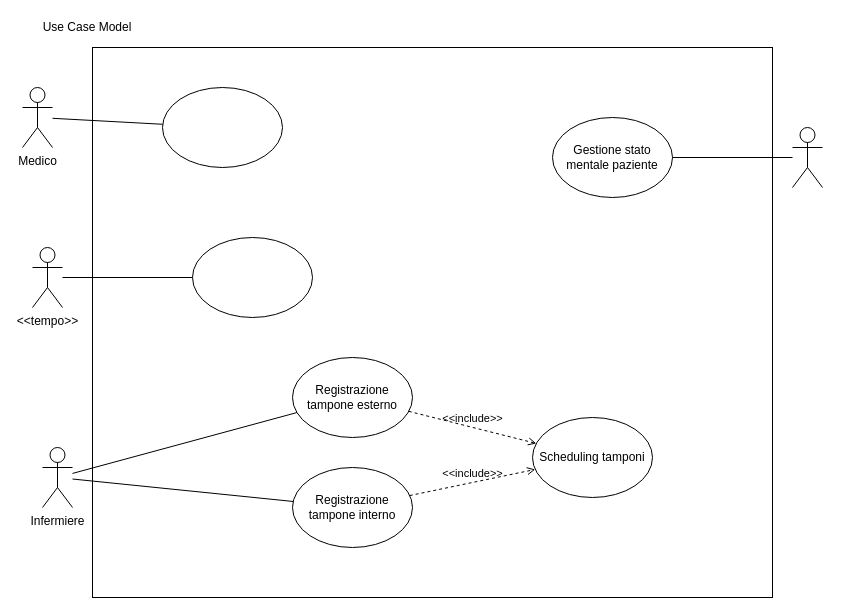
This 848x615 diagram has some shape labels left out. Here are the shapes that lost their labels. From the top down, the box of each, then its label:
(162, 86, 282, 168): Comunicazione esito analisi tampone
(792, 126, 822, 188): Paziente
(192, 236, 312, 318): Pubblicazione periodica statistiche contagi
